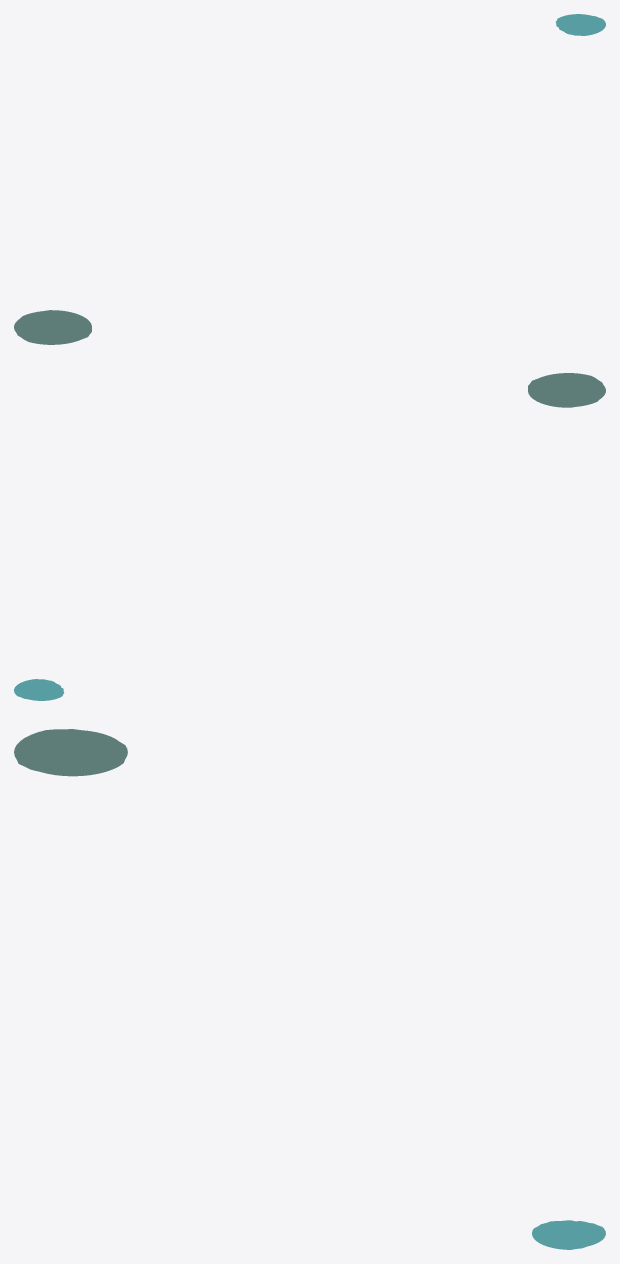
The model's file is HauntedBakery_Water.fbx.
3 renders of one model, top to bottom at view 1: azimuth 30°, elevation 25°; view 2: azimuth 210°, elevation 25°; view 3: azimuth 270°, elevation 25°, orthographic. The views are drawn at different scales.
Visible parts, largest first — view 1: HAU_Water_WitchSwamp, HAU_Water_GardenPond; view 2: HAU_Water_WitchSwamp, HAU_Water_GardenPond; view 3: HAU_Water_WitchSwamp, HAU_Water_GardenPond.
Part boxes in pixels (x1=…): HAU_Water_WitchSwamp: x1=14, y1=310, x2=91, y2=344; HAU_Water_GardenPond: x1=555, y1=14, x2=605, y2=35; HAU_Water_WitchSwamp: x1=528, y1=373, x2=605, y2=407; HAU_Water_GardenPond: x1=14, y1=679, x2=63, y2=700; HAU_Water_WitchSwamp: x1=14, y1=729, x2=127, y2=776; HAU_Water_GardenPond: x1=532, y1=1220, x2=605, y2=1249.
Size of the model in its own units: 311 by 0.5529 by 149.
